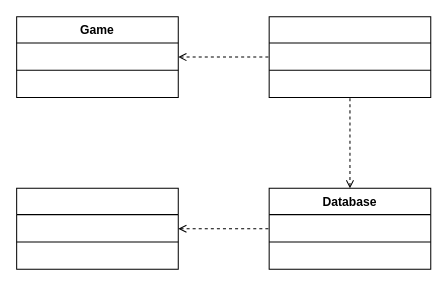
This 447x286 diagram has some shape labels left out. Here are the shapes that lost their labels. From the top down, the centre of each, then its label:
At pixel 349 56: "MainForm".
At pixel 97 228: "Query".
